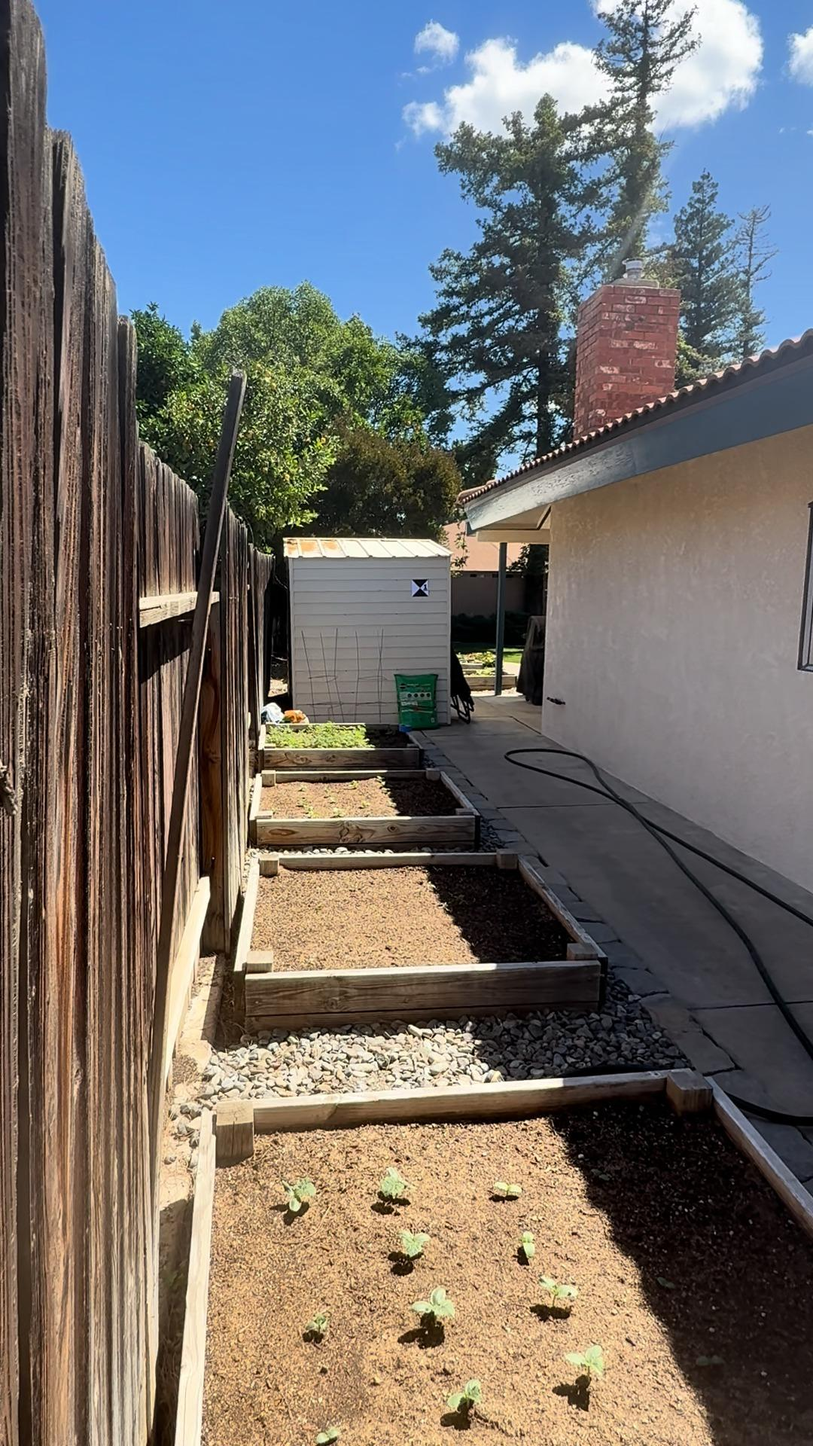target1: (410, 576, 431, 602)
